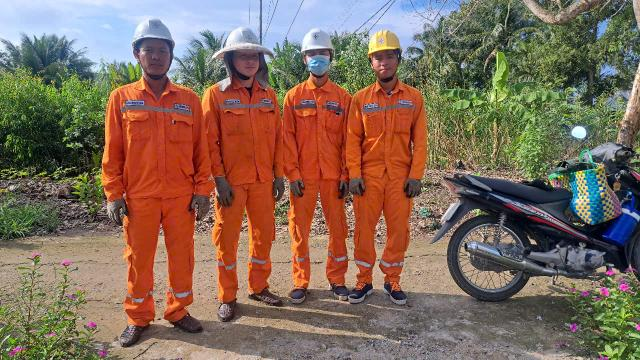gloves: (211, 166, 246, 214), (99, 196, 136, 233), (261, 175, 294, 214), (183, 189, 213, 224), (394, 171, 421, 197), (286, 171, 309, 196), (345, 170, 366, 195), (332, 178, 352, 202)
helmet: (132, 5, 187, 66), (291, 26, 355, 63), (219, 26, 274, 62), (361, 30, 406, 59)
shoes: (111, 318, 157, 348), (163, 301, 205, 333), (344, 272, 376, 309), (209, 292, 238, 331), (243, 280, 283, 308), (383, 275, 410, 312), (287, 283, 315, 307), (325, 279, 348, 308)
